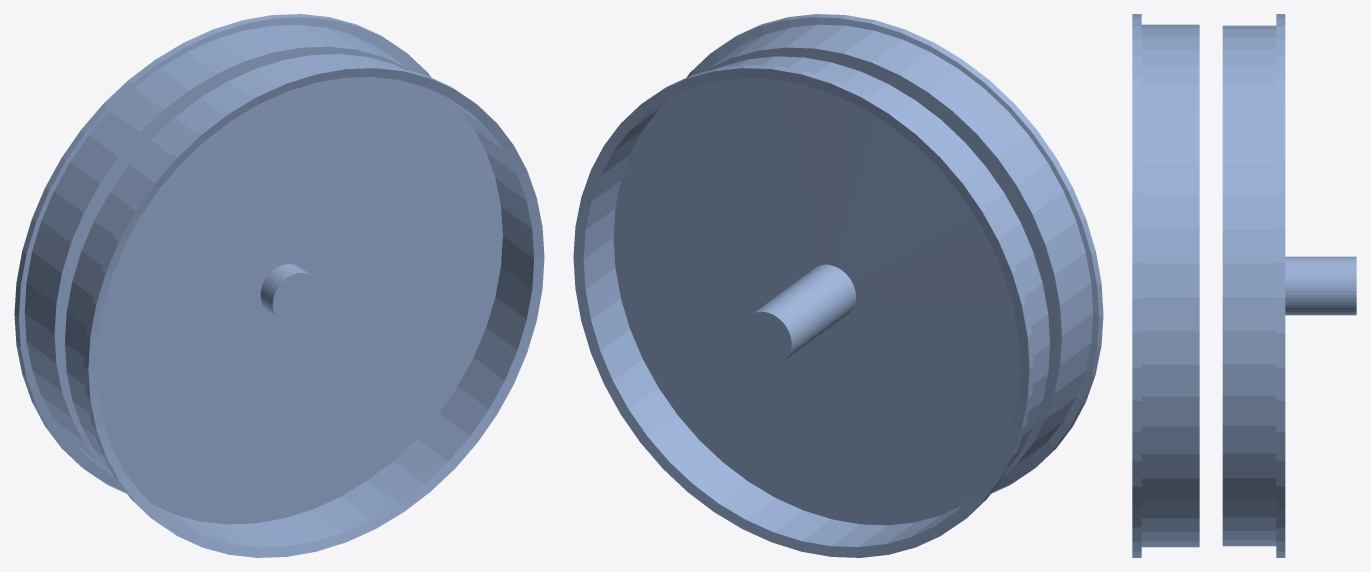
File: Rim.fbx
3 renders of one model, left to right at view 1: azimuth 30°, elevation 25°; view 2: azimuth 150°, elevation 25°; view 3: azimuth 270°, elevation 25°, orthographic. The views are drawn at different scales.
Visible parts, largest first — view 1: Torus; view 2: Torus; view 3: Torus.
Boxes of the visible parts, left/top/right/bottom form: Torus: left=14, top=14, right=544, bottom=557; Torus: left=573, top=14, right=1103, bottom=557; Torus: left=1132, top=14, right=1356, bottom=557.
Size of the model in its own units: 175 by 175 by 72.06.
